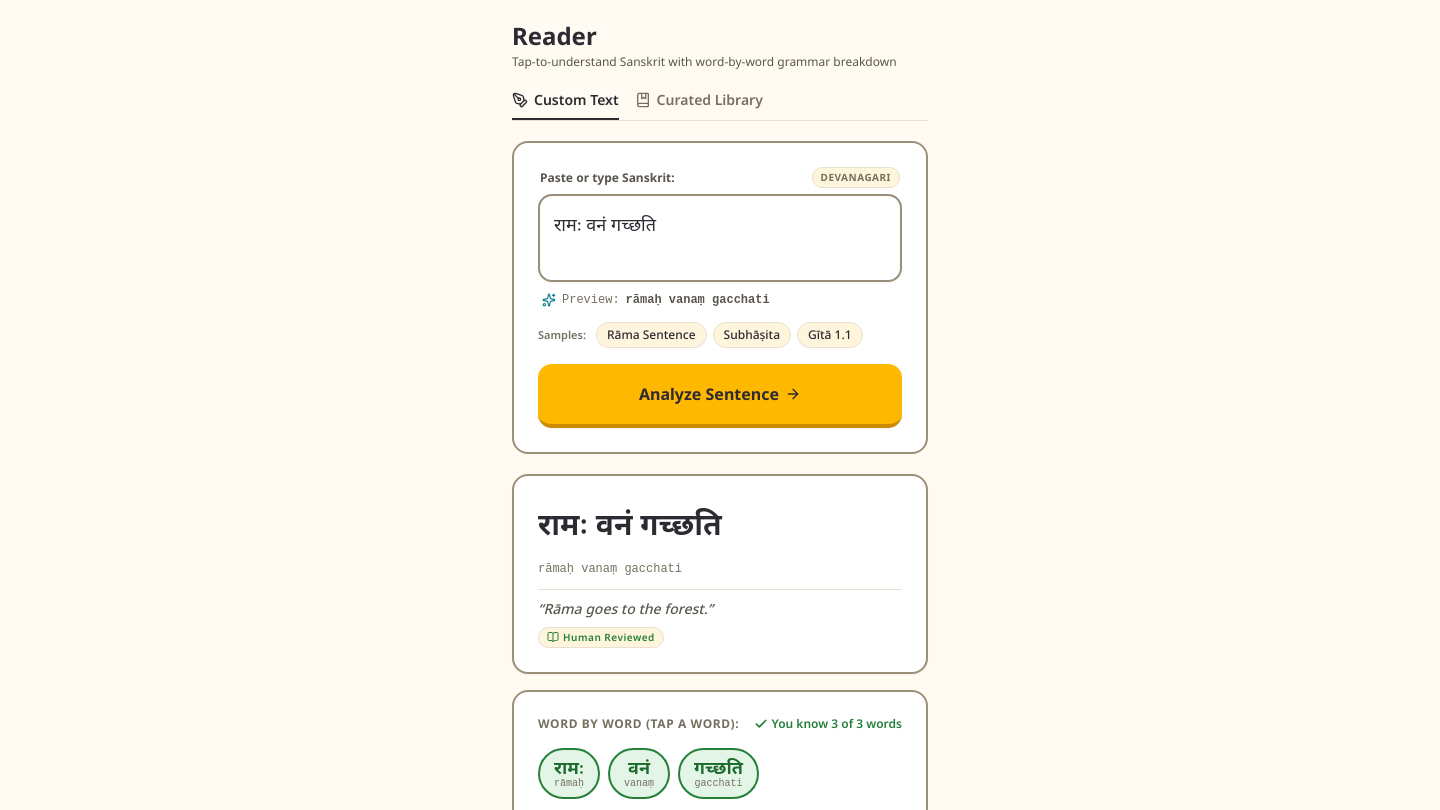
Reader Flow & Progressive Disclosure › opens WordDetailSheet on token tap, reveals progressive grammar, and allows saving word
The width and height of the screenshot is (1440, 810).
Note: Tap first token chip (रामः)
Click the button with test id "token-chip-0". click: [569, 773]
box: left=538, top=748, right=600, bottom=799
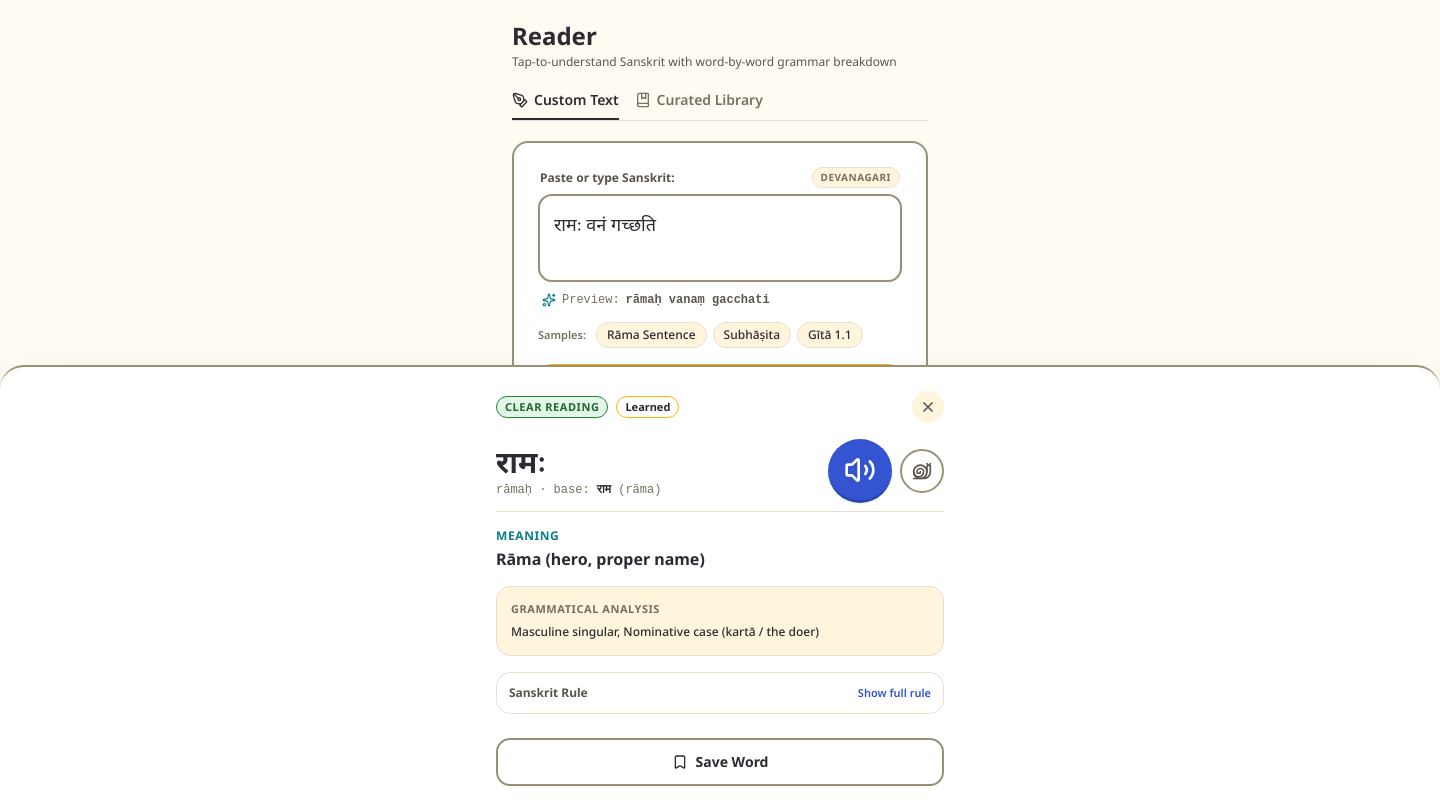
Expected: the dialog with test id "word-detail-sheet" is shown, left=0, top=365, right=1439, bottom=809
Expected: the heading with test id "detail-word-sanskrit" reads "रामः", left=496, top=441, right=546, bottom=482
Expected: the text "Rāma (hero, proper name)" is shown, left=496, top=548, right=705, bottom=570
Note: Expand Sanskrit rule
Click the text "Show full rule". click: [894, 693]
box: left=858, top=686, right=931, bottom=700
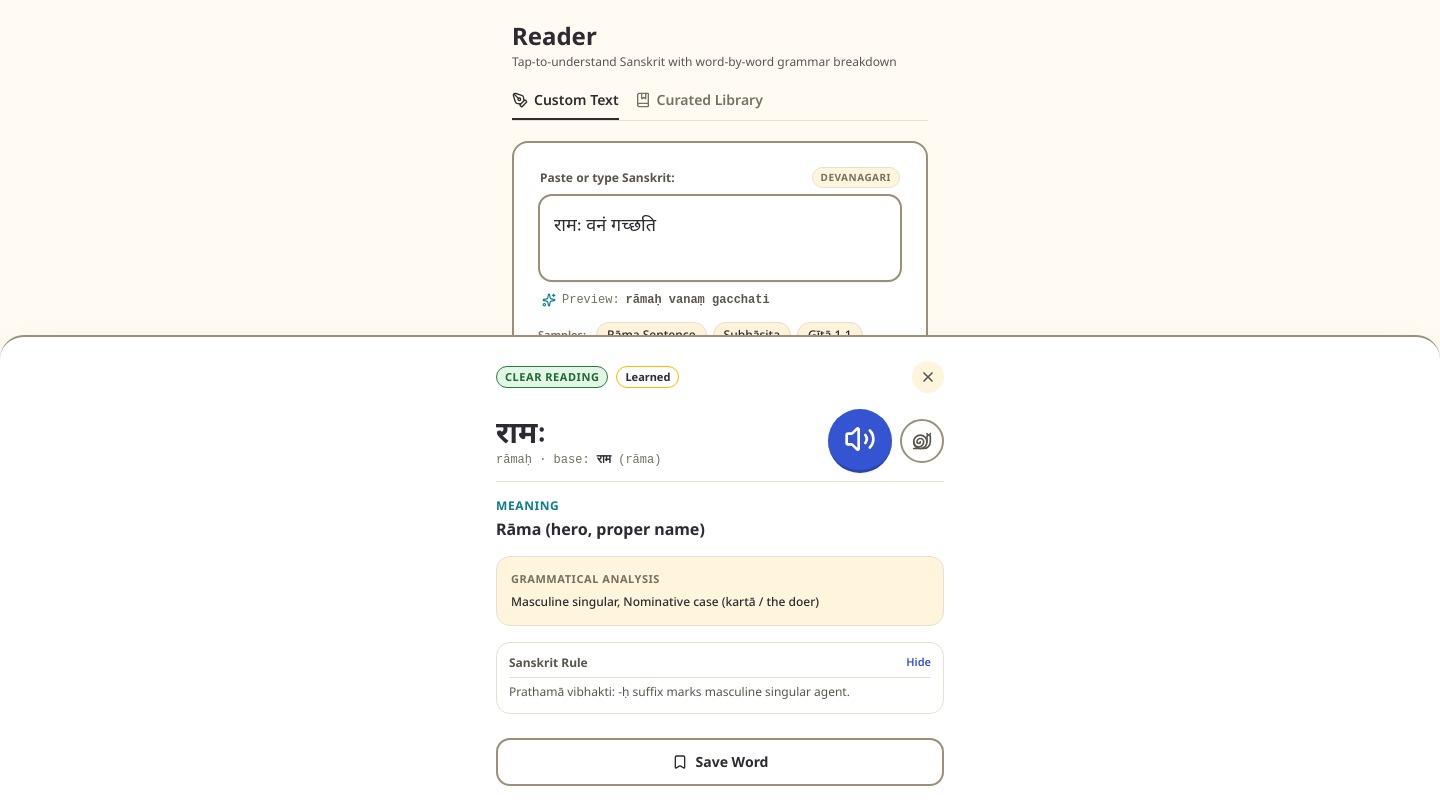
Expected: the text with test id "detail-rule" shows "Prathamā vibhakti", left=509, top=682, right=850, bottom=700
Note: Save word
Click the button with test id "save-word-btn". click: [720, 762]
box: left=496, top=738, right=944, bottom=786
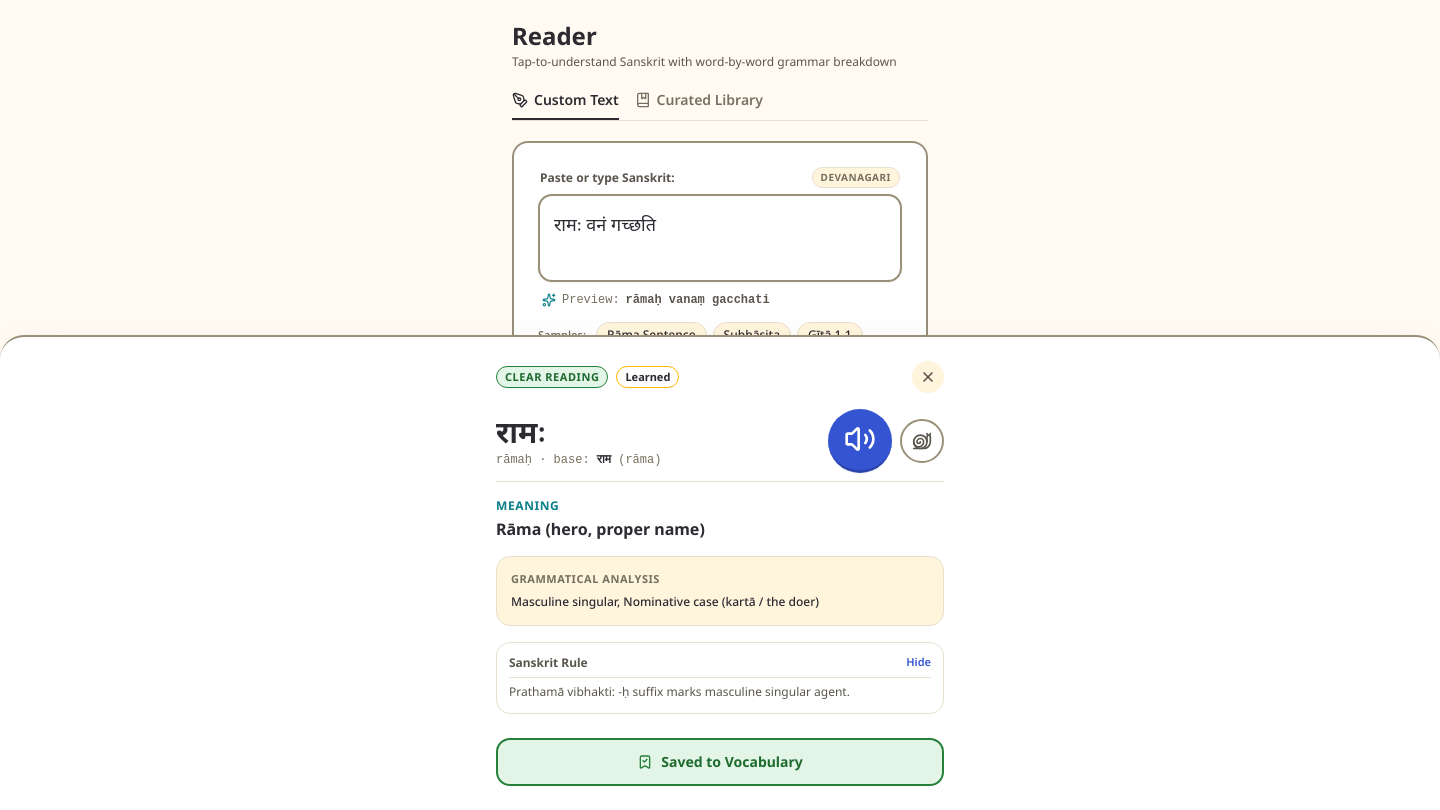
Expected: the text "Saved to Vocabulary" is shown, left=661, top=752, right=803, bottom=772
Note: Close sheet
Click the button with test id "close-detail-sheet-btn". click: [928, 376]
box: left=912, top=360, right=944, bottom=392
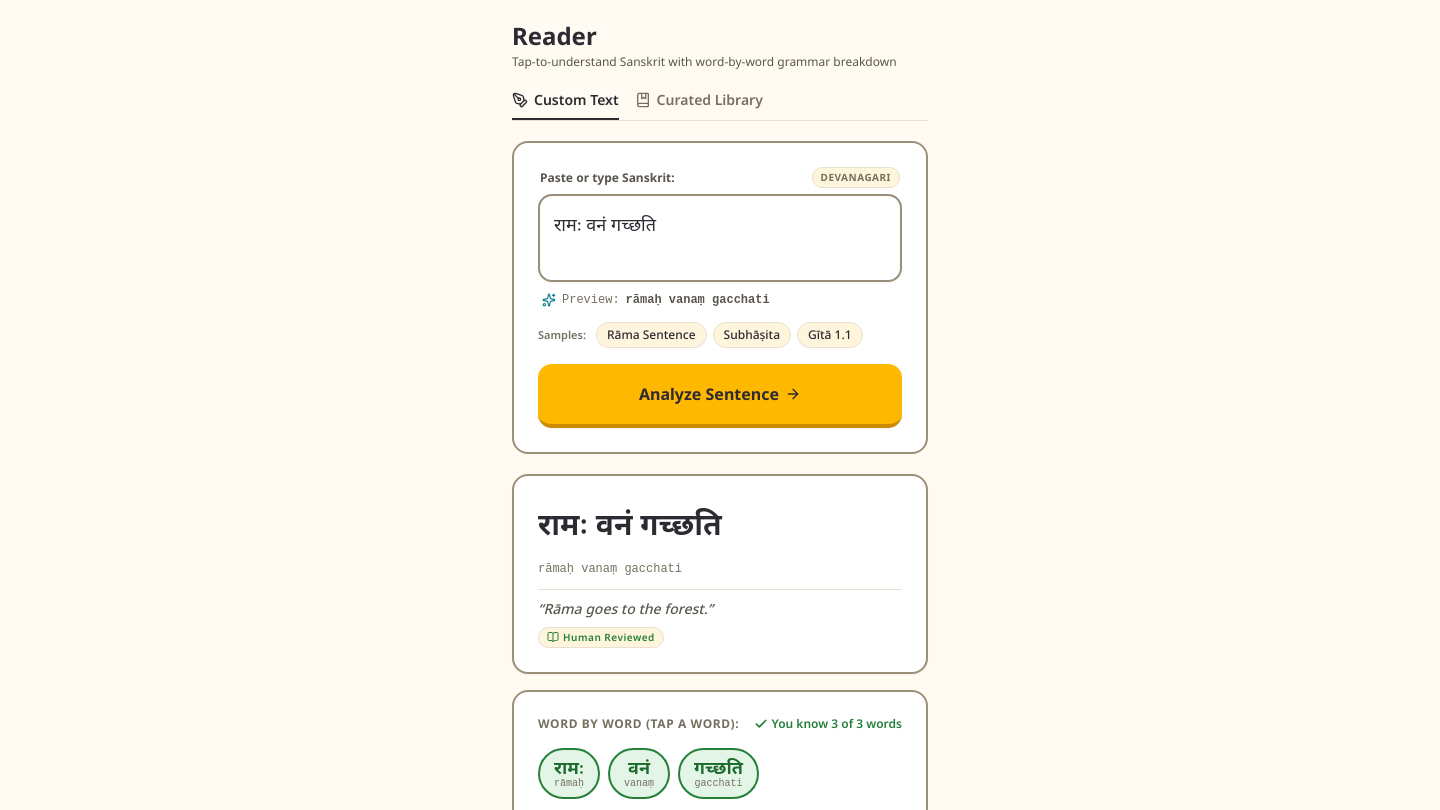
Expected: the dialog with test id "word-detail-sheet" is gone
